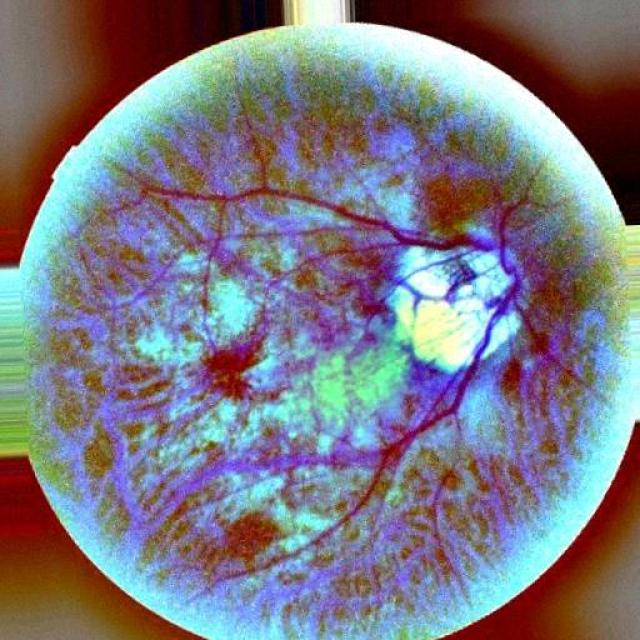Macula: (208, 341, 274, 406)
Nerves: (309, 311, 501, 541), (219, 187, 459, 250), (401, 263, 478, 311)
Optic Disk: (389, 249, 519, 374)
